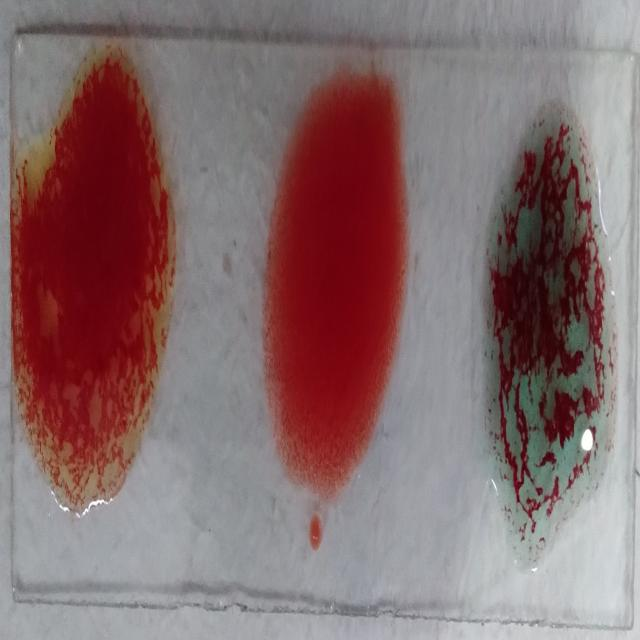A: (477, 96, 619, 544)
B: (14, 44, 178, 519)
D: (263, 74, 410, 501)
